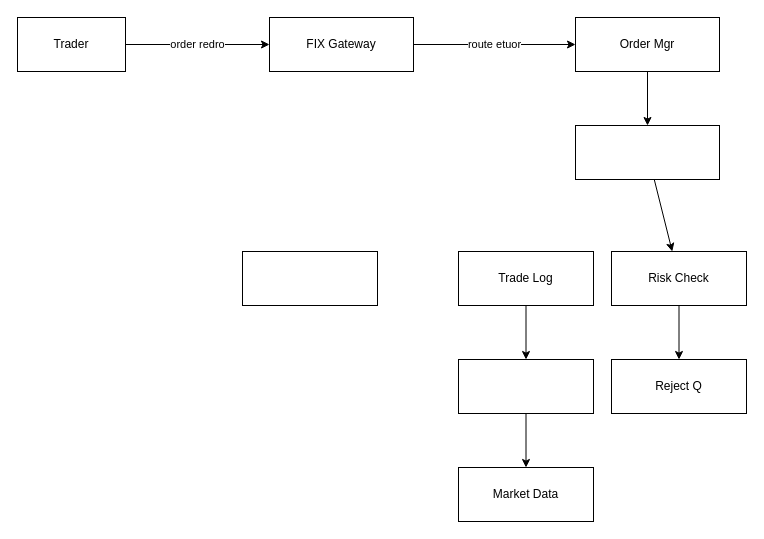
This 764x539 diagram has some shape labels left out. The shapes that lost their labels are listed below. From the top down, each one's box as (x1, y1, x2, y2) in pixels, then its label:
(574, 124, 720, 180): Match Engine
(242, 250, 378, 306): Order Book
(458, 358, 594, 414): Settlement
